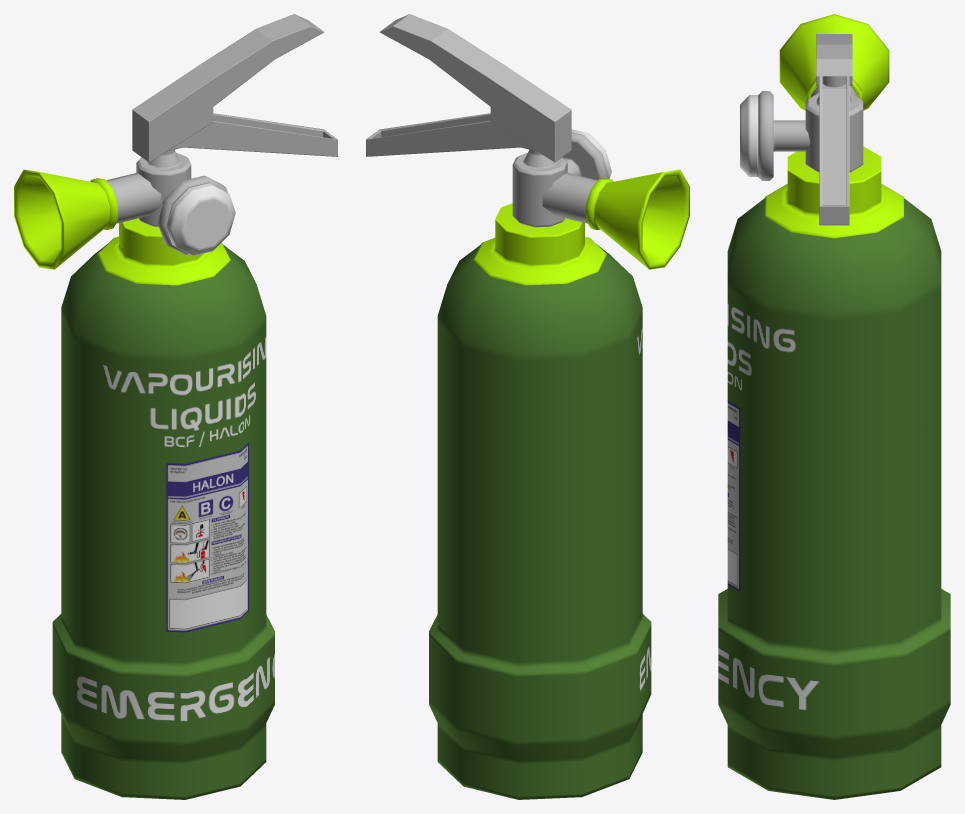
The model's file is Fire Extinguisher.fbx.
The picture shows the model from 3 angles, left to right: view 1: azimuth 30°, elevation 25°; view 2: azimuth 150°, elevation 25°; view 3: azimuth 270°, elevation 25°; orthographic projection. The views are drawn at different scales.
Parts seen in each view (by area): view 1: Tank, Handle, Nozzle_Cone, Plastic, Pressure_Guage_Cover, Valve_Body, Nozzle_Body, Pressure_Guage_Housing; view 2: Tank, Handle, Nozzle_Cone, Plastic, Valve_Body, Nozzle_Body, Pressure_Guage_Housing; view 3: Tank, Plastic, Handle, Nozzle_Cone, Pressure_Guage_Housing, Valve_Body, Pressure_Guage_Cover.
Part boxes in pixels (box(x1,y1,x2,y2)): Tank: box(52, 244, 274, 799); Handle: box(132, 14, 337, 162); Nozzle_Cone: box(14, 169, 117, 269); Plastic: box(97, 218, 230, 285); Pressure_Guage_Cover: box(166, 182, 235, 255); Valve_Body: box(136, 149, 191, 226); Nozzle_Body: box(106, 173, 161, 223); Pressure_Guage_Housing: box(157, 175, 227, 254); Tank: box(429, 244, 651, 799); Handle: box(366, 14, 571, 162); Nozzle_Cone: box(586, 169, 689, 269); Plastic: box(473, 203, 606, 285); Valve_Body: box(512, 149, 567, 227); Nozzle_Body: box(542, 173, 597, 223); Pressure_Guage_Housing: box(562, 132, 608, 180); Tank: box(718, 198, 950, 799); Plastic: box(765, 146, 903, 238); Handle: box(816, 34, 852, 225); Nozzle_Cone: box(779, 14, 889, 110); Pressure_Guage_Housing: box(758, 91, 810, 180); Valve_Body: box(805, 76, 863, 172); Pressure_Guage_Cover: box(740, 95, 758, 176).
Bounding box in the file's own units: 5.47 × 12.6 × 3.45.
Materials: 5 (2 with a texture image).
